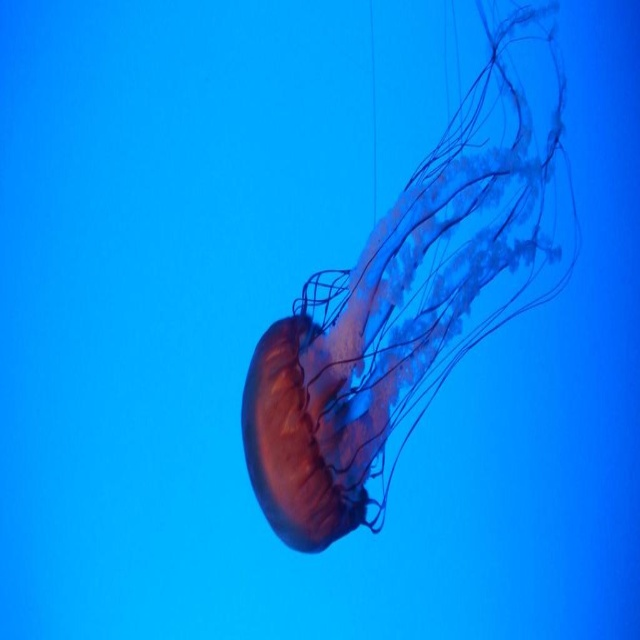Jellyfish: (241, 0, 581, 554)
